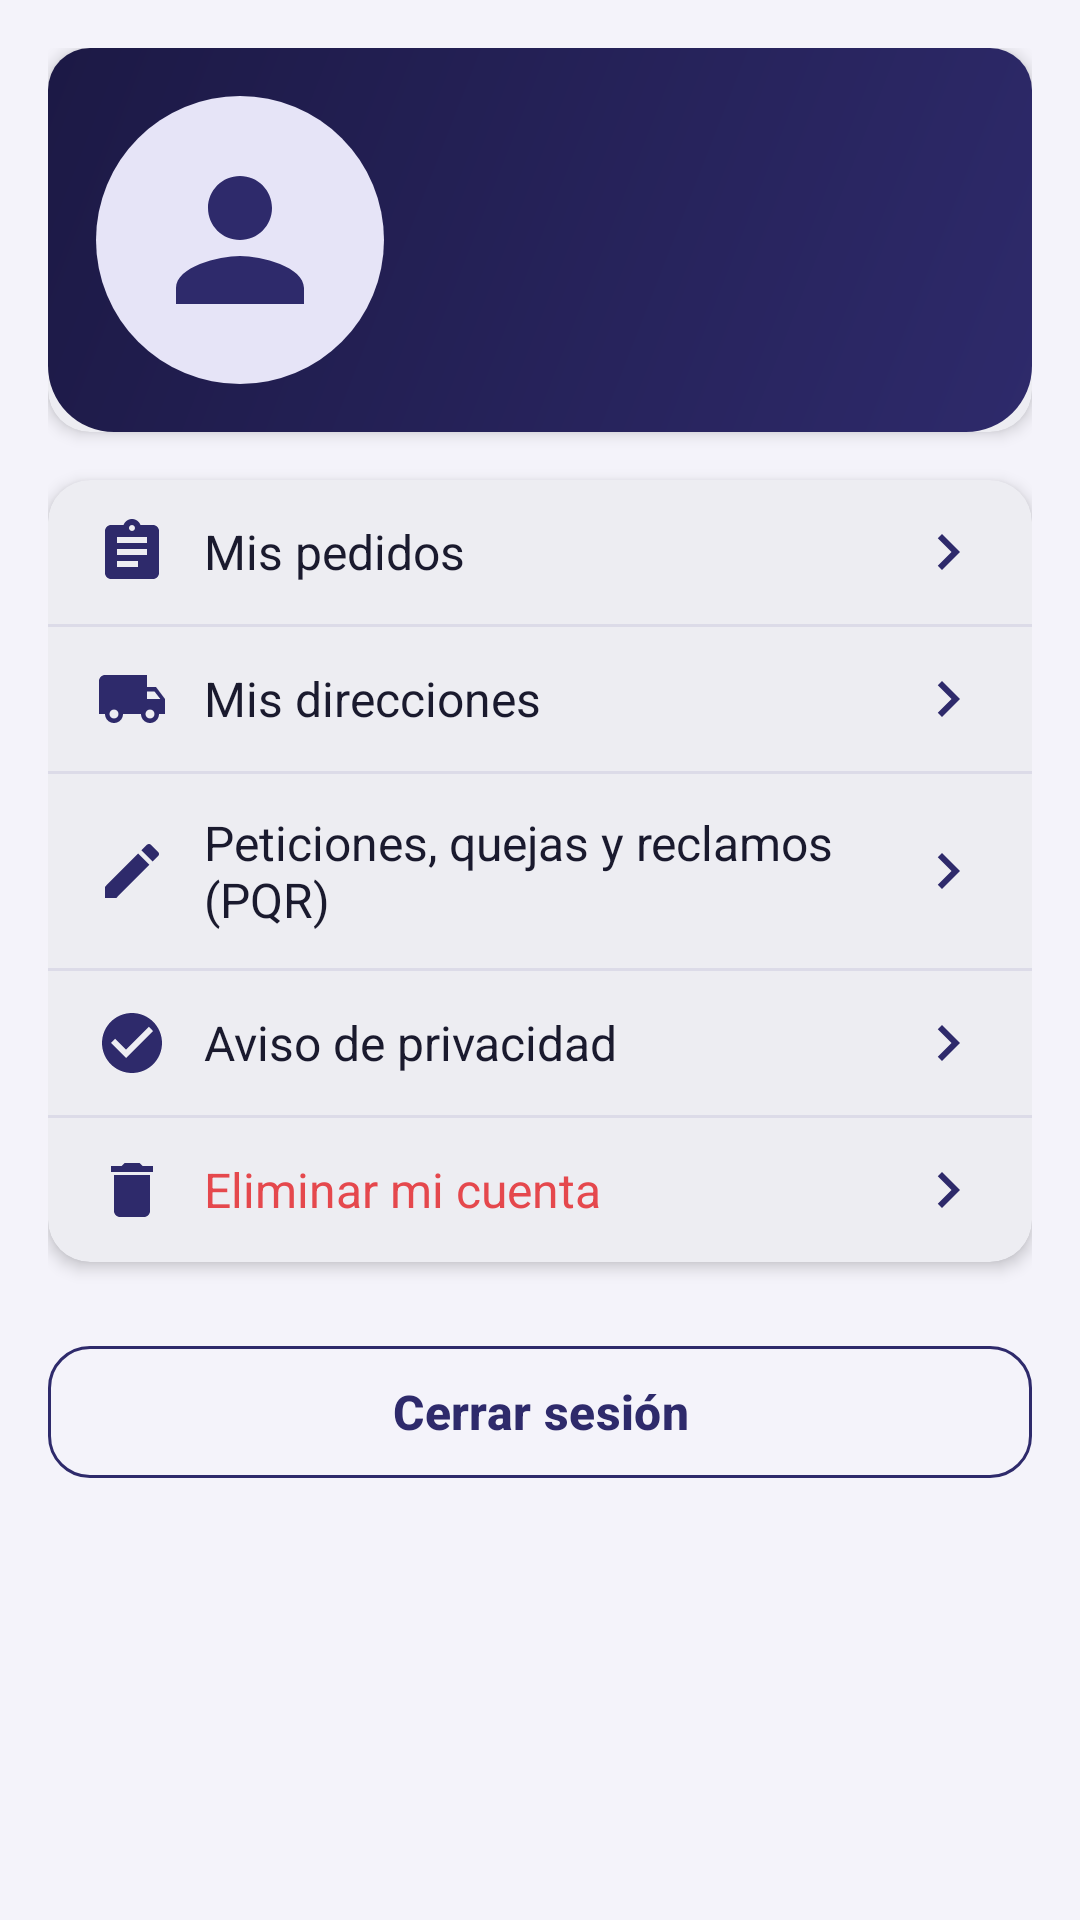

Locate icon controls on the screen. Image size 1080x1920, boxes as [x1, y1, x2, y2].
Foto de perfil: [96, 96, 384, 384]
